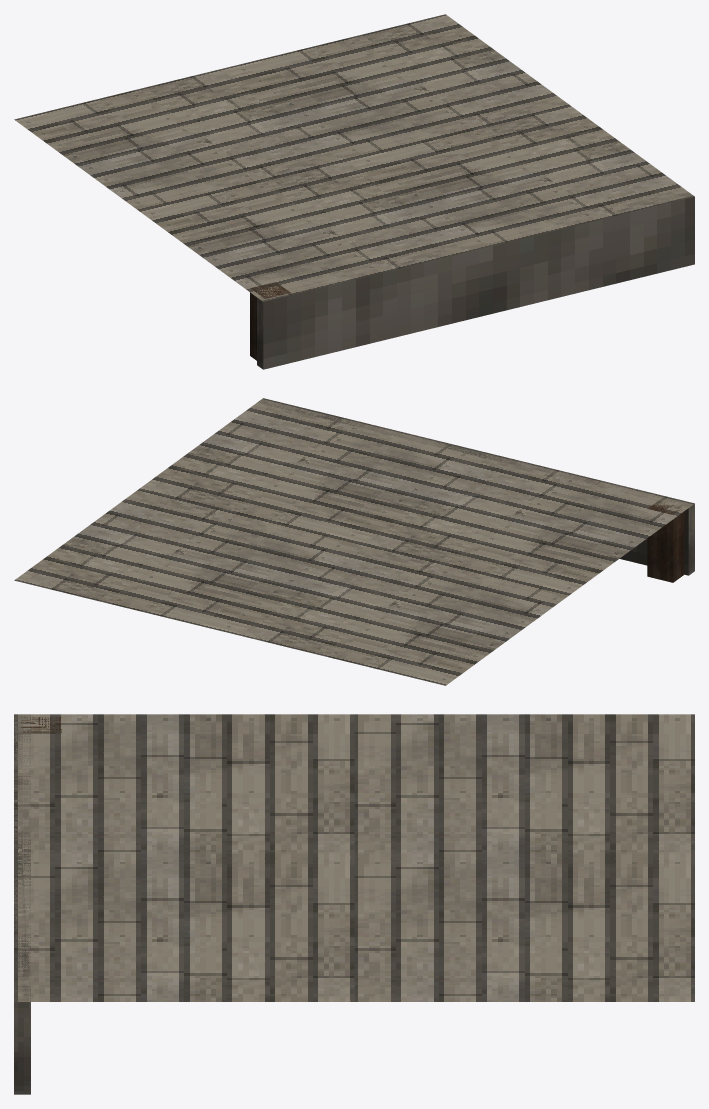
The model's file is boardwalk.glb.
3 views of the same model, one above another, from view 1: azimuth 30°, elevation 25°; view 2: azimuth 150°, elevation 25°; view 3: azimuth 270°, elevation 25° (orthographic). The views are drawn at different scales.
Parts seen in each view (by area): view 1: boardwalk; view 2: boardwalk; view 3: boardwalk.
Part boxes in pixels (x1,y1,x2,y2): boardwalk: (14, 14, 694, 369); boardwalk: (14, 398, 694, 685); boardwalk: (14, 714, 694, 1094).
Bounding box in the file's own units: 2 × 0.3 × 2.
1 material, 1 textured.
